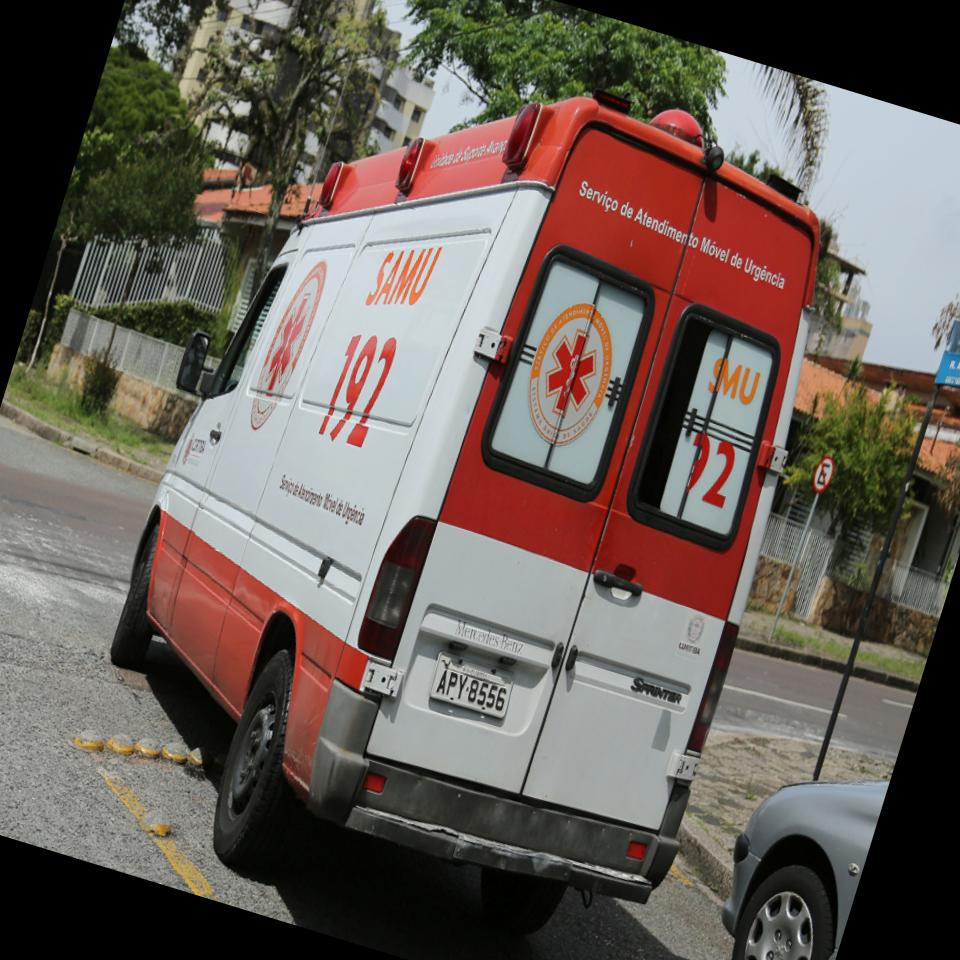bombeiro: (49, 0, 892, 960)
